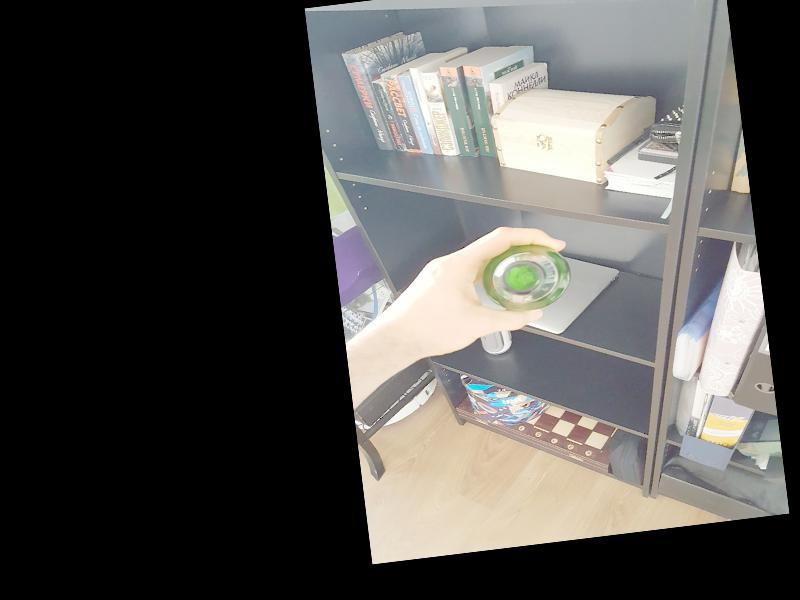Beer: (480, 240, 569, 316)
